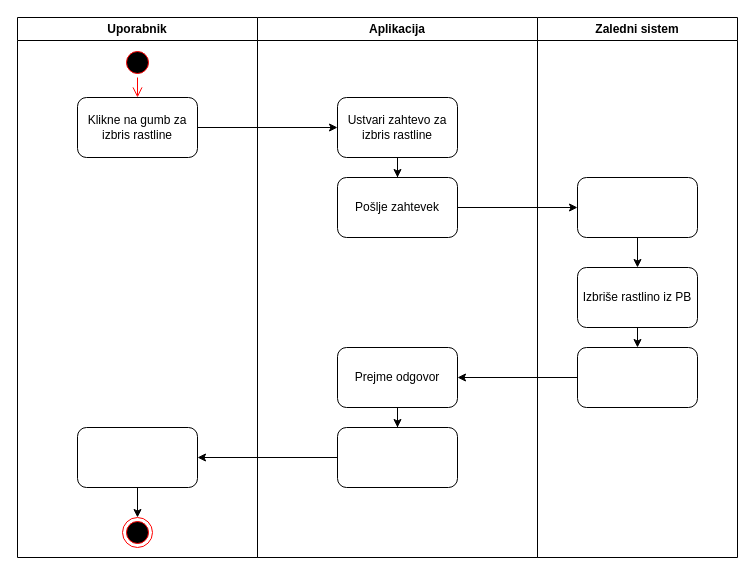
Image size: 755x575. Some labels were removed from this diagram. Here are the shapes that lost their labels. From the top down, the centre of each, then its label:
At (637,207): "Prejme zahtevek".
At (637,377): "Vrne odgovor o statusu izbrisa".
At (137,457): "Pregleda rastline, ki jih že ima v vrtu".
At (397,457): "Preusmeri na zaslon za virtualni vrt".
